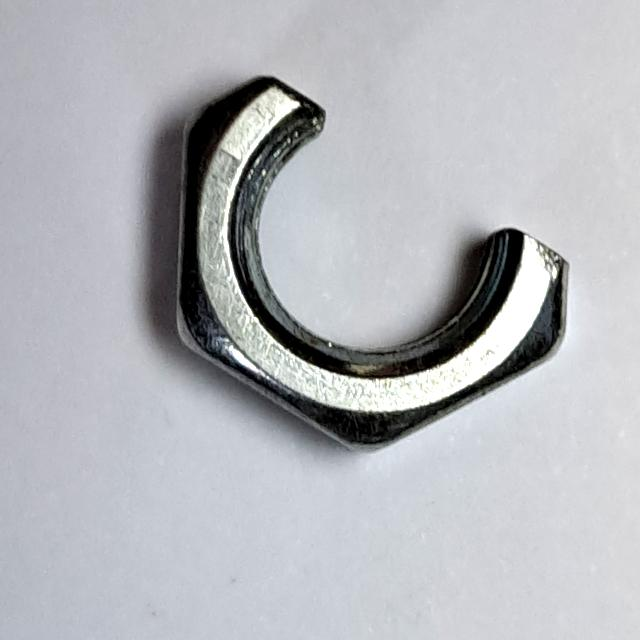Fracture: (156, 59, 594, 471)
